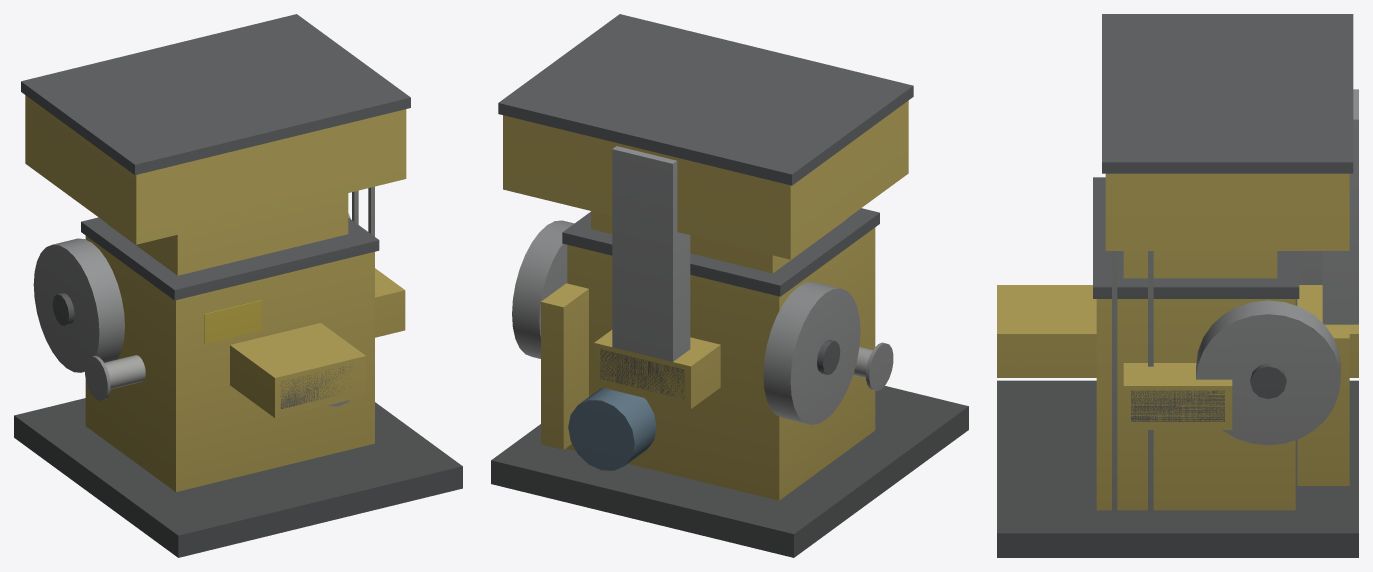
Rendered from mcCrusher_steel.glb.
3 renders of one model, left to right at view 1: azimuth 30°, elevation 25°; view 2: azimuth 150°, elevation 25°; view 3: azimuth 270°, elevation 25°, orthographic. The views are drawn at different scales.
Visible parts, largest first — view 1: mcCrusher_steel; view 2: mcCrusher_steel; view 3: mcCrusher_steel.
Boxes of the visible parts, x1,y1,x2,y2 form: mcCrusher_steel: (14, 14, 462, 557); mcCrusher_steel: (491, 14, 968, 557); mcCrusher_steel: (997, 14, 1358, 557).
Bounding box in the file's own units: 2 × 2.4 × 2.
